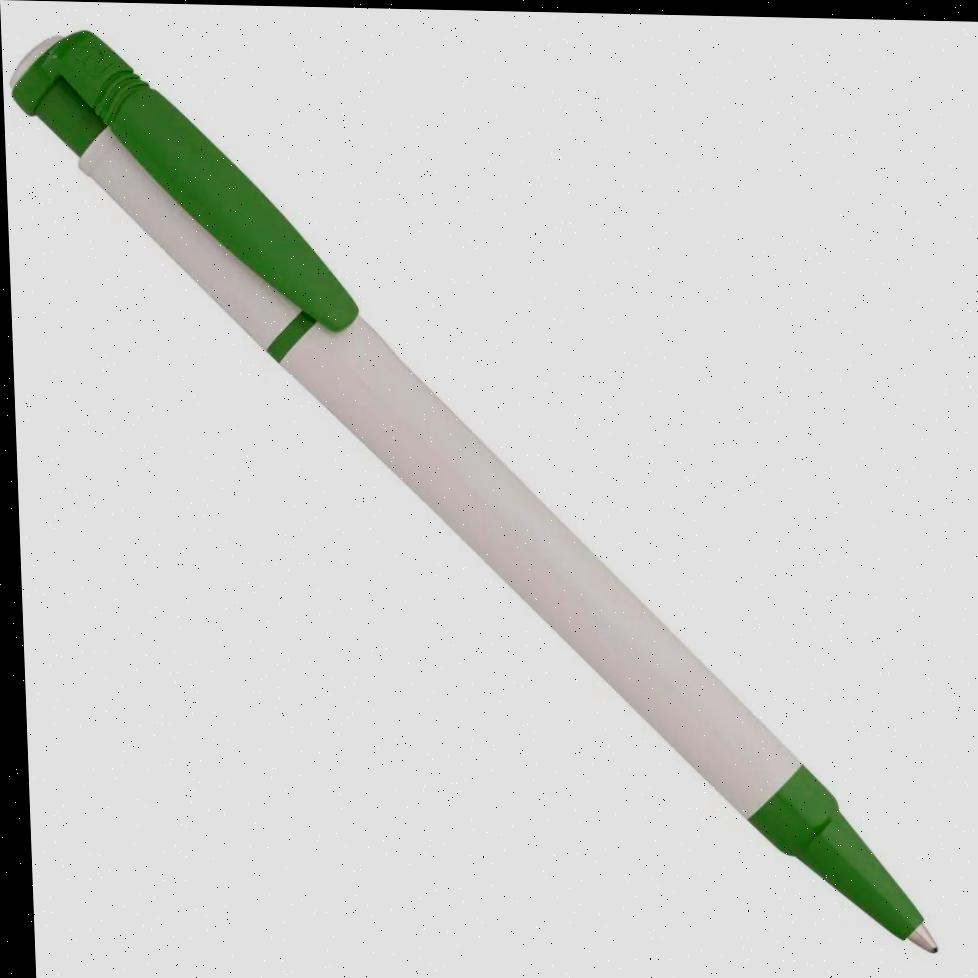pen-pencil: (11, 32, 937, 952)
